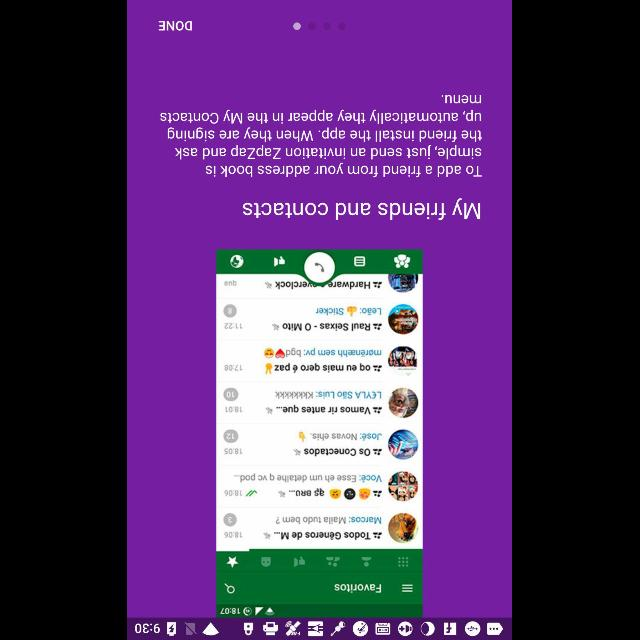image: (218, 249, 424, 616)
pageindicator: (293, 21, 347, 31)
text: (161, 94, 484, 178), (244, 198, 482, 220), (159, 21, 193, 31)
uppertaskbar: (128, 617, 512, 639)
